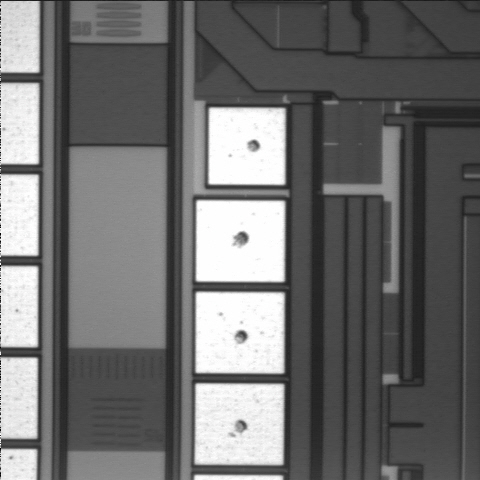pad: (196, 200, 285, 282), (195, 383, 284, 465), (196, 292, 284, 373), (208, 108, 285, 185)
